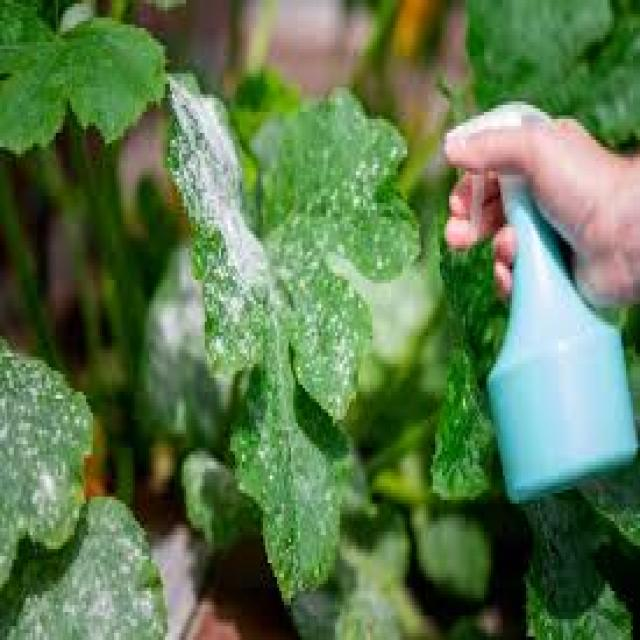powdery-mildew: (1, 358, 148, 640), (167, 90, 269, 370)
